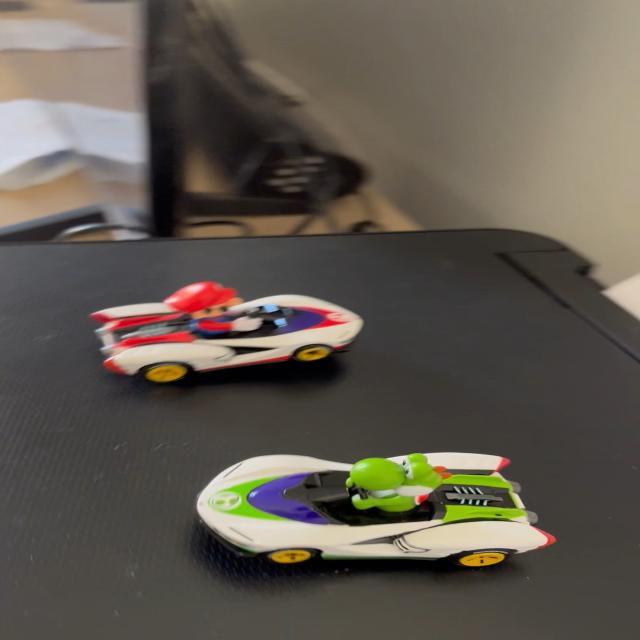mario: (72, 276, 373, 384)
yoshi: (224, 442, 558, 578)
